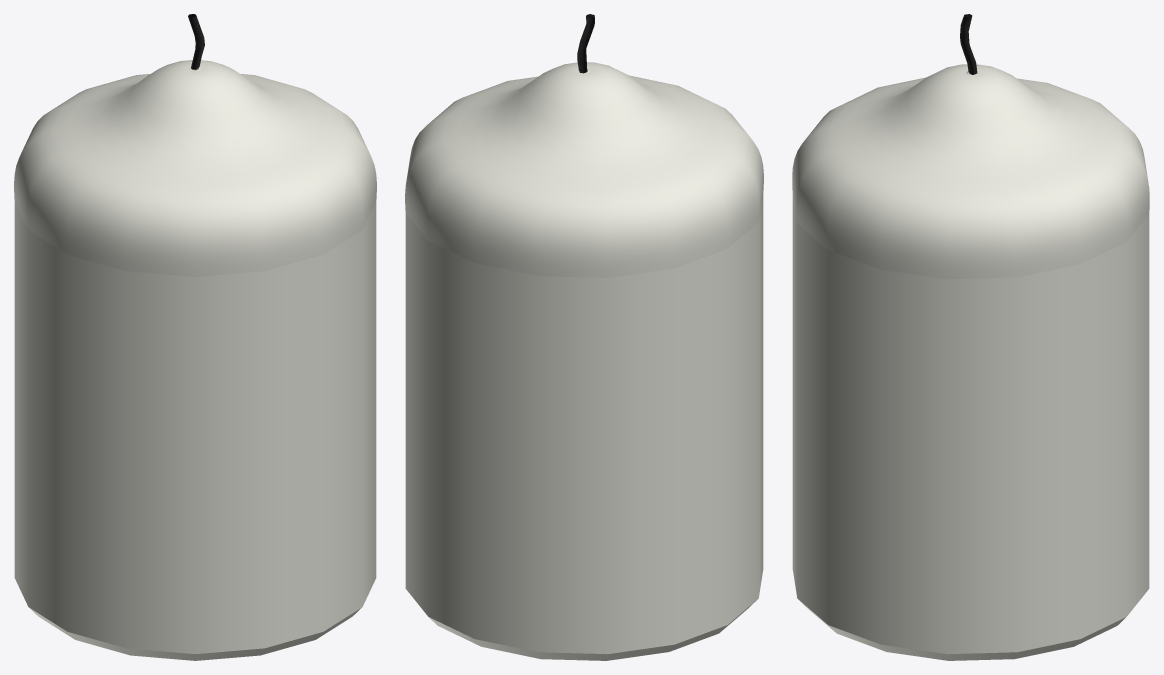
The model's file is Candle.fbx.
The picture shows the model from 3 angles, left to right: view 1: azimuth 30°, elevation 25°; view 2: azimuth 150°, elevation 25°; view 3: azimuth 270°, elevation 25°; orthographic projection.
Visible parts, largest first — view 1: candle; view 2: candle; view 3: candle.
Boxes of the visible parts, bbox=[...] form: candle: bbox=[14, 14, 376, 660]; candle: bbox=[405, 14, 763, 660]; candle: bbox=[792, 14, 1149, 660].
Bounding box in the file's own units: 7.34 × 12.95 × 7.34.
1 material, 1 textured.
